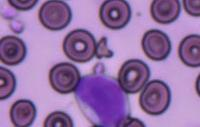L: (74, 72, 130, 127)
